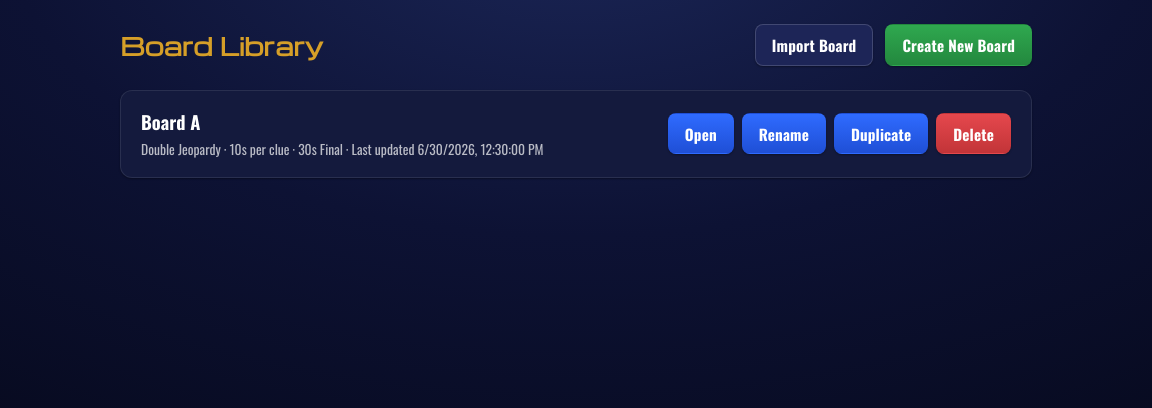
Test: AdminBoardLibrary › duplicates a board with a differentiated name
Click the button with aria-label "duplicate Board A". click: (881, 134)
box: top-left (834, 113), bottom-right (928, 154)
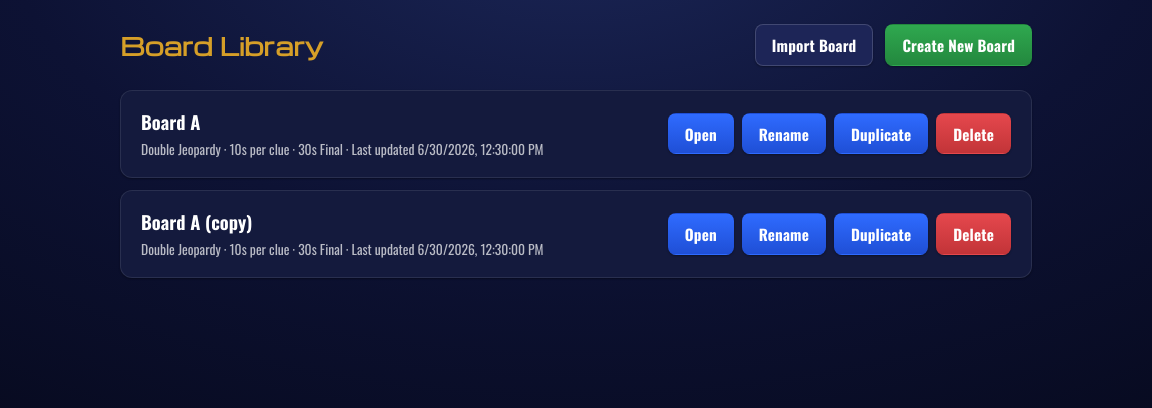
Expected: the heading "Board A (copy)" is shown, top-left (141, 208), bottom-right (252, 235)
